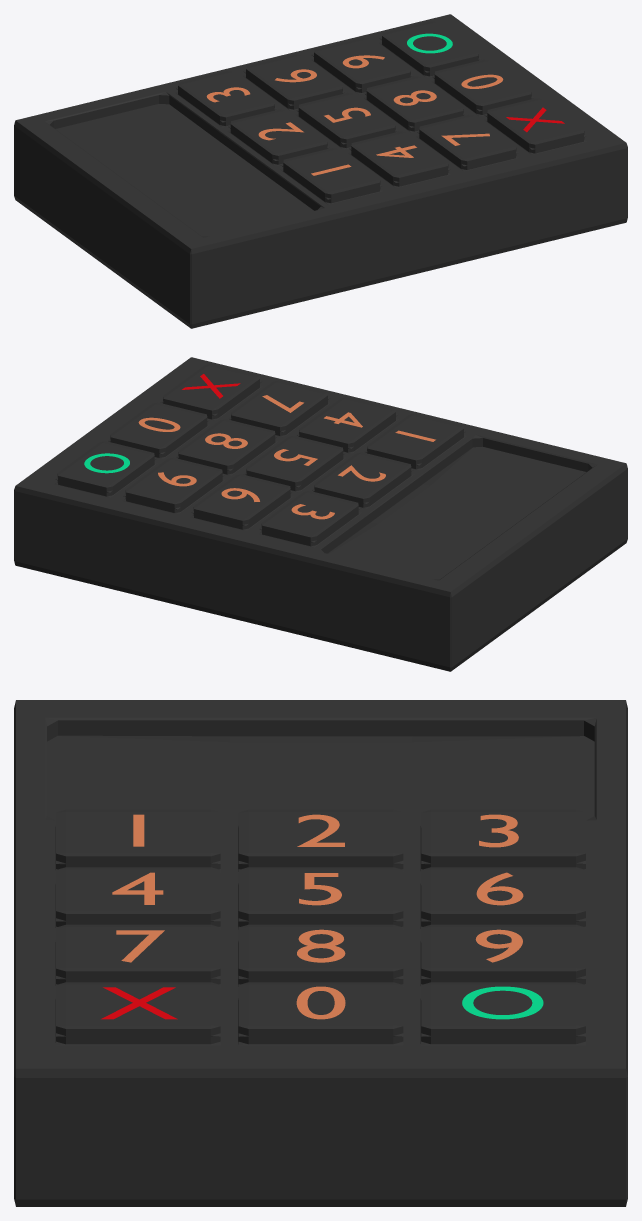
Rendered from Keypad.fbx.
The picture shows the model from 3 angles, top to bottom: view 1: azimuth 30°, elevation 25°; view 2: azimuth 150°, elevation 25°; view 3: azimuth 270°, elevation 25°; orthographic projection. The views are drawn at different scales.
Parts seen in each view (by area): view 1: Keypad.001; view 2: Keypad.001; view 3: Keypad.001, O, 8, X, 0, 6, 9.
Boxes of the visible parts, x1,y1,x2,y2 form: Keypad.001: (14, 14, 627, 328); Keypad.001: (14, 357, 627, 671); Keypad.001: (14, 700, 627, 1206); O: (462, 986, 543, 1019); 8: (297, 929, 345, 962); X: (101, 987, 177, 1019); 0: (296, 986, 345, 1019); 6: (476, 872, 523, 905); 9: (475, 929, 522, 962).
Size of the model in its own units: 200 by 39.3 by 140.
